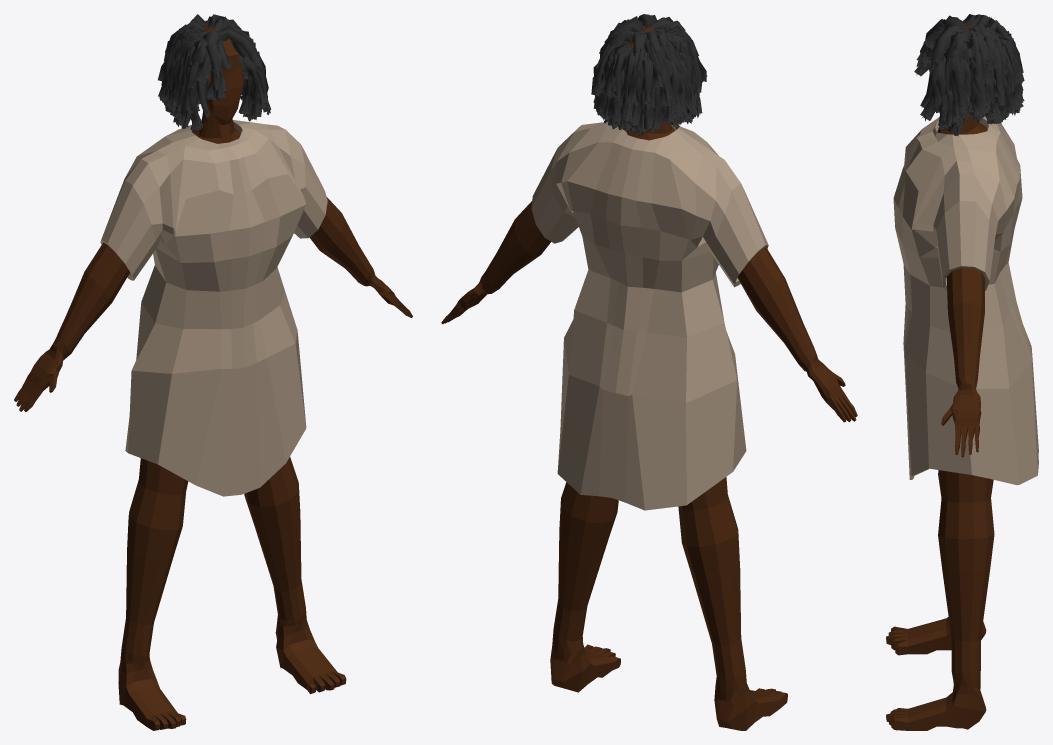
Rendered from Numidian_v2.fbx.
3 views of the same model, side by side, from view 1: azimuth 30°, elevation 25°; view 2: azimuth 150°, elevation 25°; view 3: azimuth 270°, elevation 25° (orthographic). The views are drawn at different scales.
Visible parts, largest first — view 1: Cylinder.001, Cylinder; view 2: Cylinder.001, Cylinder; view 3: Cylinder.001, Cylinder.
Boxes of the visible parts, x1=… form: Cylinder.001: x1=100, y1=120, x2=327, y2=496; Cylinder: x1=14, y1=14, x2=412, y2=730; Cylinder.001: x1=531, y1=121, x2=768, y2=510; Cylinder: x1=441, y1=14, x2=857, y2=730; Cylinder.001: x1=893, y1=113, x2=1038, y2=485; Cylinder: x1=886, y1=14, x2=1024, y2=730.
Size of the model in its own units: 132 by 214 by 44.29.
